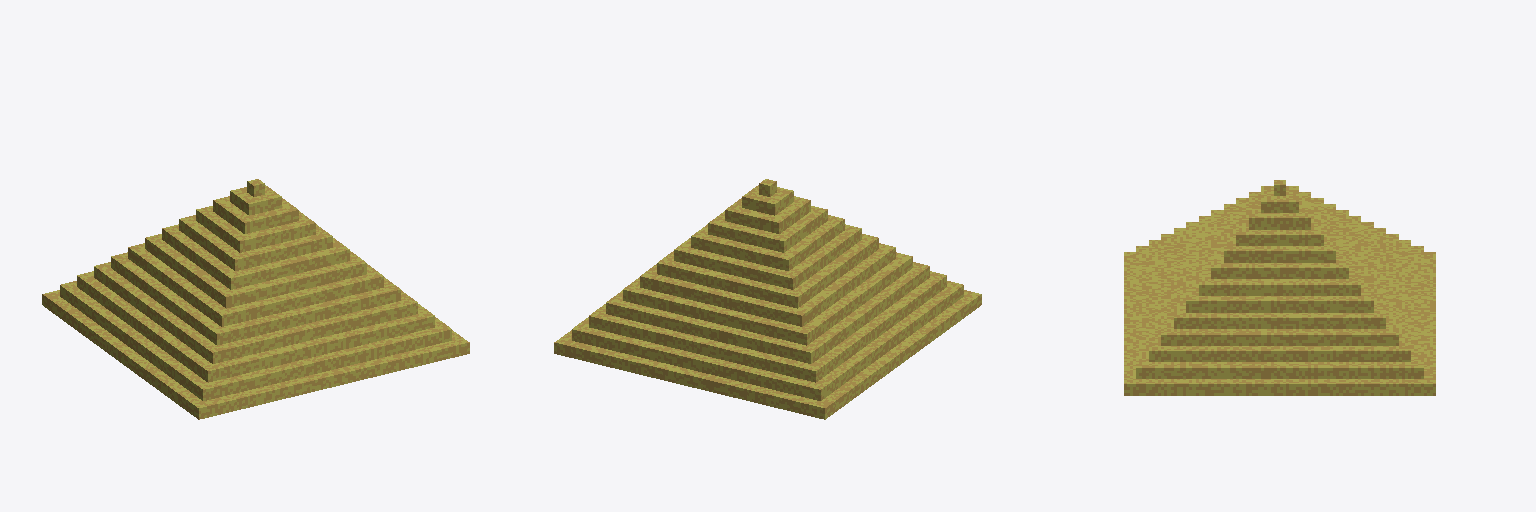
3 views of the same model, side by side, from view 1: azimuth 30°, elevation 25°; view 2: azimuth 150°, elevation 25°; view 3: azimuth 270°, elevation 25° (orthographic).
Parts seen in each view (by area): view 1: object 1; view 2: object 1; view 3: object 1.
Part boxes in pixels (x1,y1,x2,y2): object 1: (42,179,469,419); object 1: (554,179,981,419); object 1: (1124,180,1435,395).
Bounding box in the file's own units: 10 × 5.2 × 10.
Materials: 1 (1 with a texture image).